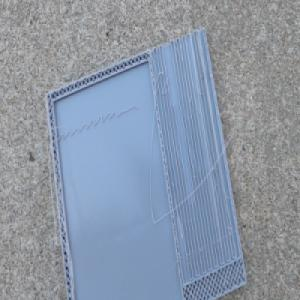PlasticPart: (44, 23, 248, 300)
